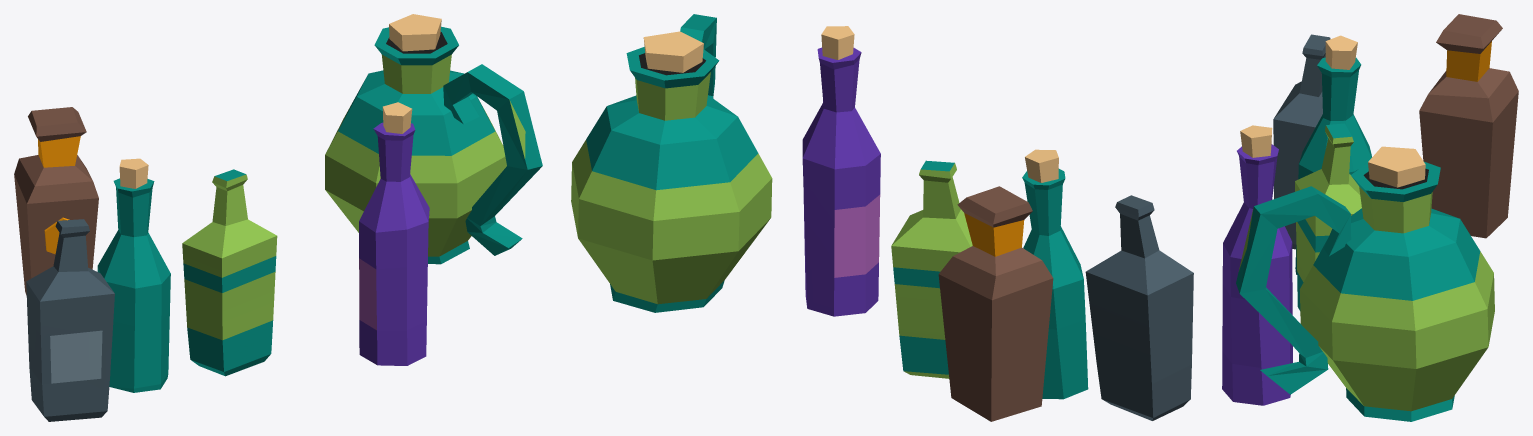
The model's file is produtos_limpeza.glb.
3 renders of one model, left to right at view 1: azimuth 30°, elevation 25°; view 2: azimuth 150°, elevation 25°; view 3: azimuth 270°, elevation 25°, orthographic. The views are drawn at different scales.
Visible parts, largest first — view 1: Bottles.008, Bottles.003, Bottles, Bottles.002, Bottles.006, Bottles.004, Bottles.009, Bottles.010, Bottles.001, Bottles.007; view 2: Bottles.008, Bottles.004, Bottles.002, Bottles, Bottles.003, Bottles.006, Bottles.010, Bottles.009, Bottles.001, Bottles.007; view 3: Bottles.008, Bottles.004, Bottles, Bottles.009, Bottles.002, Bottles.003, Bottles.006, Bottles.010, Bottles.007, Bottles.001.
Boxes of the visible parts, x1,y1,x2,y2 form: Bottles.008: (325,26,506,264); Bottles.003: (182,169,277,376); Bottles: (359,122,429,365); Bottles.002: (26,219,114,421); Bottles.006: (97,178,170,392); Bottles.004: (14,107,98,295); Bottles.009: (443,64,542,255); Bottles.010: (389,14,441,51); Bottles.001: (382,102,412,133); Bottles.007: (119,158,148,188); Bottles.008: (571,46,772,312); Bottles.004: (938,186,1053,421); Bottles.002: (1085,195,1193,420); Bottles: (802,47,880,316); Bottles.003: (891,160,972,378); Bottles.006: (1022,168,1088,399); Bottles.010: (643,31,703,72); Bottles.009: (680,14,716,98); Bottles.001: (821,26,854,59); Bottles.007: (1025,149,1058,182); Bottles.008: (1299,161,1494,421); Bottles.004: (1419,14,1518,238); Bottles: (1222,144,1292,405); Bottles.009: (1236,186,1351,394); Bottles.002: (1273,34,1330,249); Bottles.003: (1295,123,1361,310); Bottles.006: (1295,57,1371,274); Bottles.010: (1368,146,1425,187); Bottles.007: (1325,35,1357,69); Bottles.001: (1240,125,1272,157).
Size of the model in its own units: 1.05 by 0.5252 by 0.4955.
